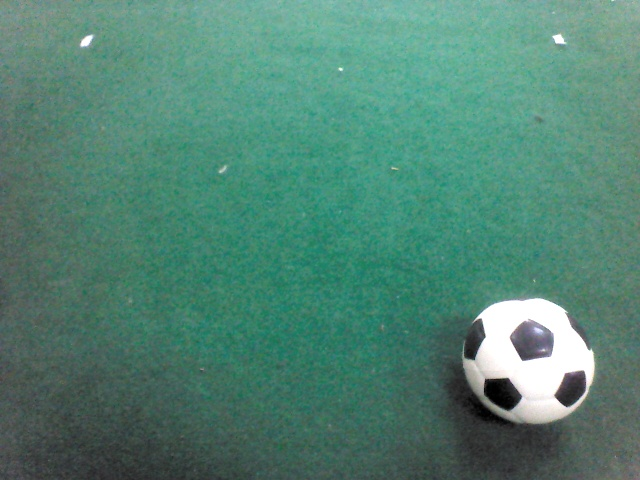ball: (460, 294, 598, 429)
